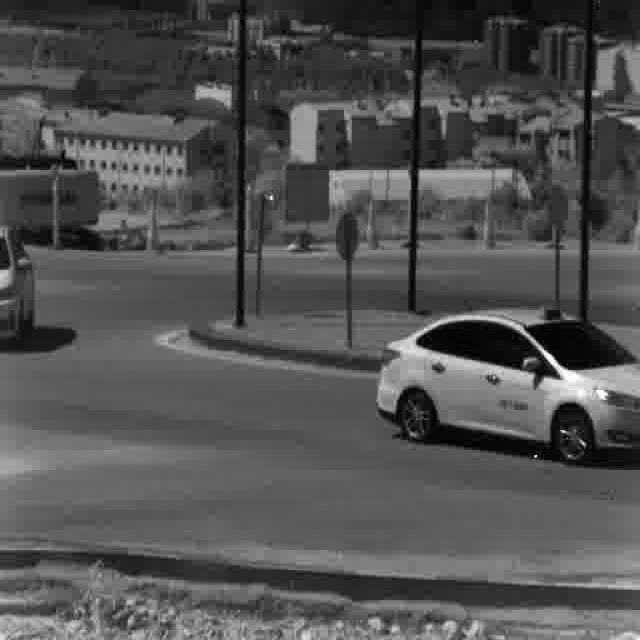Car: (370, 305, 640, 460), (0, 226, 44, 352)
